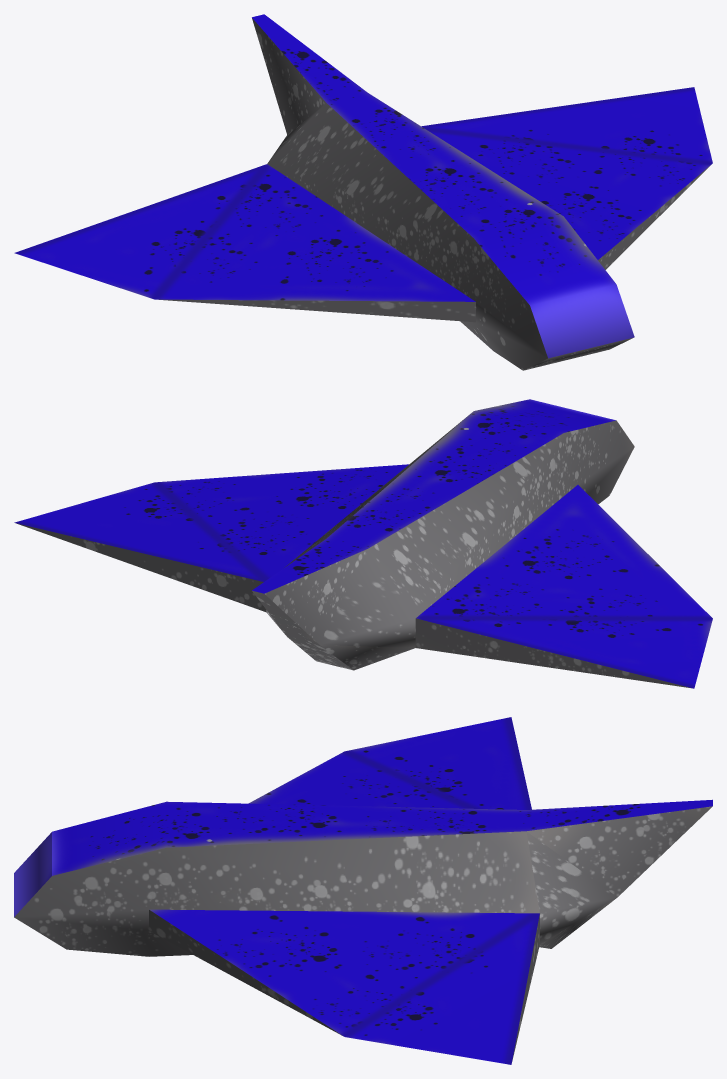
File: Player Ship.fbx
3 views of the same model, one above another, from view 1: azimuth 30°, elevation 25°; view 2: azimuth 150°, elevation 25°; view 3: azimuth 270°, elevation 25° (orthographic). The views are drawn at different scales.
Visible parts, largest first — view 1: pCube1; view 2: pCube1; view 3: pCube1.
Part boxes in pixels (<box>): pCube1: <box>14,14,712,370</box>; pCube1: <box>14,399,712,688</box>; pCube1: <box>14,717,712,1064</box>.
Bounding box in the file's own units: 23.75 × 4.35 × 20.16.
